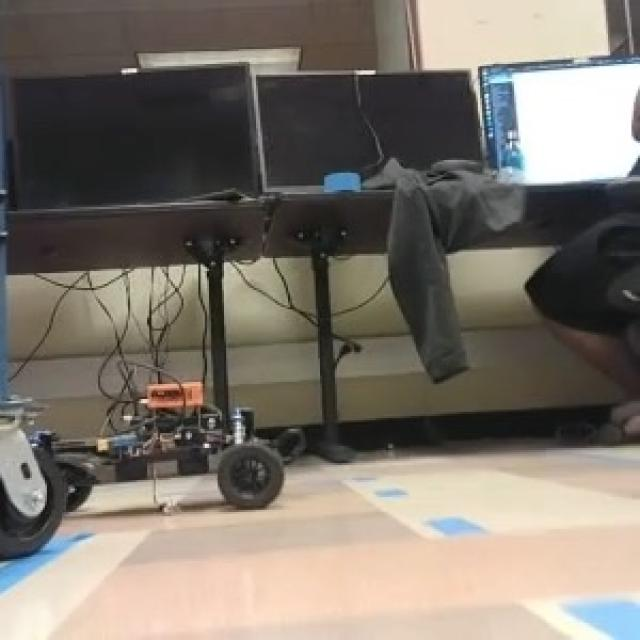obstacle: (57, 380, 282, 507)
